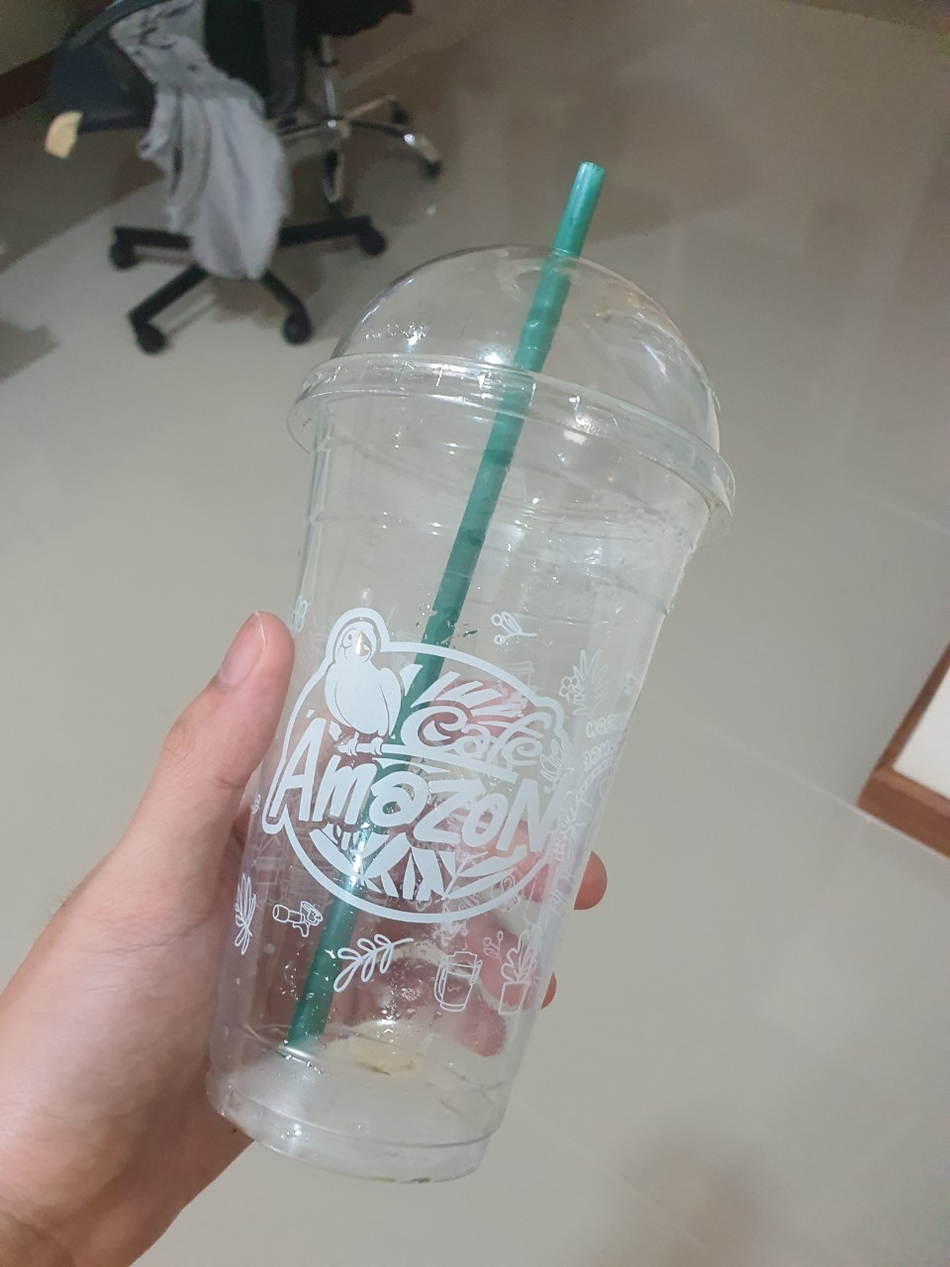plastic: (179, 147, 735, 1194)
